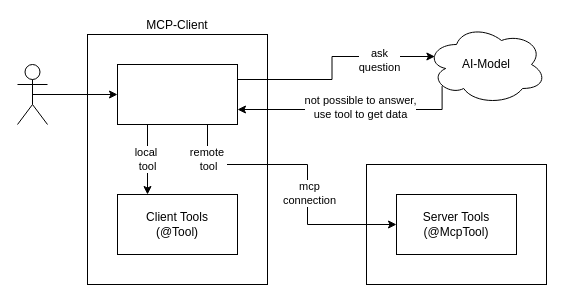
This 564x302 diagram has some shape labels left out. Here are the shapes that lost their labels. From the top down, the box of each, then its label:
(116, 64, 238, 124): ChatClient
(366, 164, 546, 284): MCP-Server
